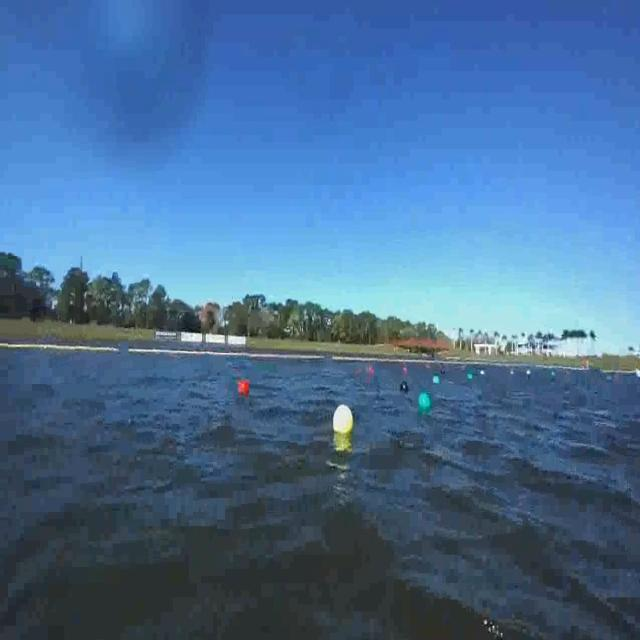green-buoy: (419, 393, 432, 415)
yellow-buoy: (334, 405, 354, 436)
